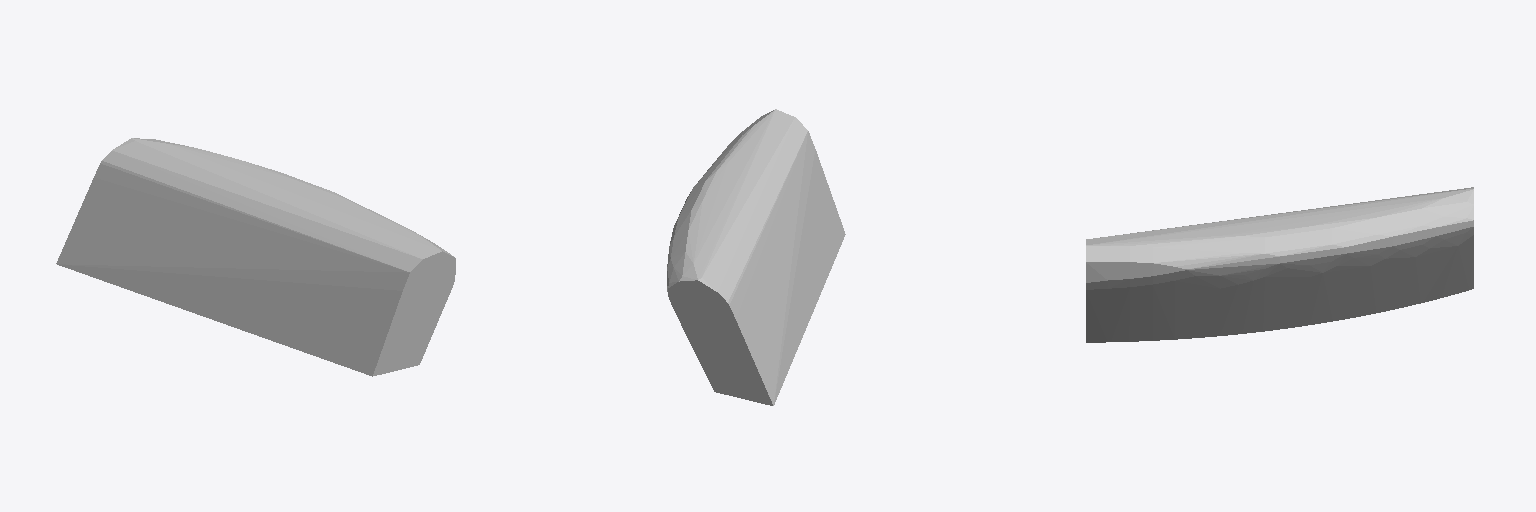
File: skillet_collision_11.obj
3 renders of one model, left to right at view 1: azimuth 30°, elevation 25°; view 2: azimuth 150°, elevation 25°; view 3: azimuth 270°, elevation 25°, orthographic.
Bounding box in the file's own units: 0.0342 × 0.0172 × 0.0559.